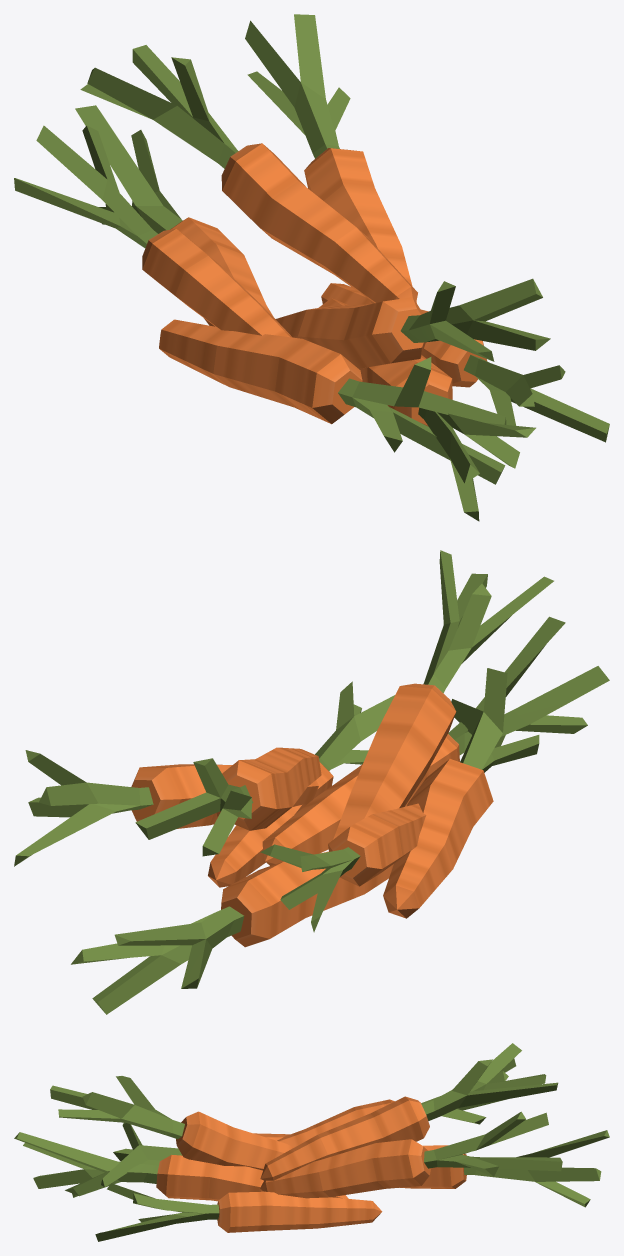
File: Wortel.fbx
3 renders of one model, top to bottom at view 1: azimuth 30°, elevation 25°; view 2: azimuth 150°, elevation 25°; view 3: azimuth 270°, elevation 25°, orthographic. The views are drawn at different scales.
Visible parts, largest first — view 1: SM_Prop_Box_Carrot_01__1_, SM_Prop_Box_Carrot_01__1_.001, SM_Prop_Box_Carrot_01__1_.002; view 2: SM_Prop_Box_Carrot_01__1_, SM_Prop_Box_Carrot_01__1_.002, SM_Prop_Box_Carrot_01__1_.001; view 3: SM_Prop_Box_Carrot_01__1_, SM_Prop_Box_Carrot_01__1_.001, SM_Prop_Box_Carrot_01__1_.002.
Part boxes in pixels (x1=…): SM_Prop_Box_Carrot_01__1_: x1=14, y1=14, x2=609, y2=521; SM_Prop_Box_Carrot_01__1_.001: x1=80, y1=45, x2=417, y2=303; SM_Prop_Box_Carrot_01__1_.002: x1=275, y1=278, x2=550, y2=368; SM_Prop_Box_Carrot_01__1_: x1=14, y1=616, x2=609, y2=1014; SM_Prop_Box_Carrot_01__1_.002: x1=333, y1=550, x2=553, y2=839; SM_Prop_Box_Carrot_01__1_.001: x1=135, y1=747, x2=321, y2=856; SM_Prop_Box_Carrot_01__1_: x1=14, y1=1058, x2=609, y2=1241; SM_Prop_Box_Carrot_01__1_.001: x1=260, y1=1043, x2=558, y2=1181; SM_Prop_Box_Carrot_01__1_.002: x1=50, y1=1076, x2=293, y2=1170.
Bounding box in the file's own units: 46.2 × 30.11 × 115.
1 material, 1 textured.
